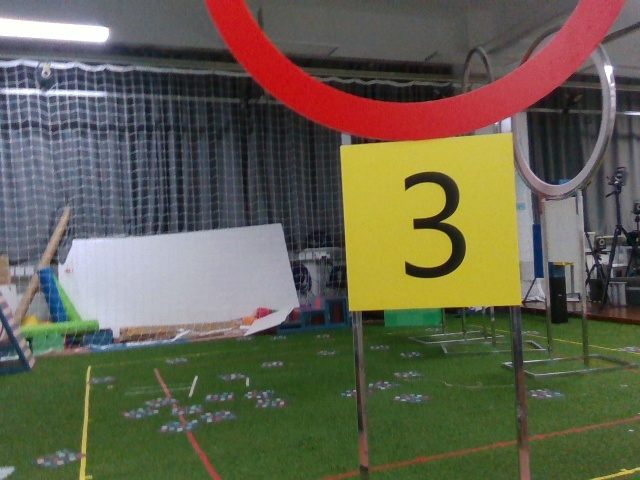target: (351, 154, 515, 300)
